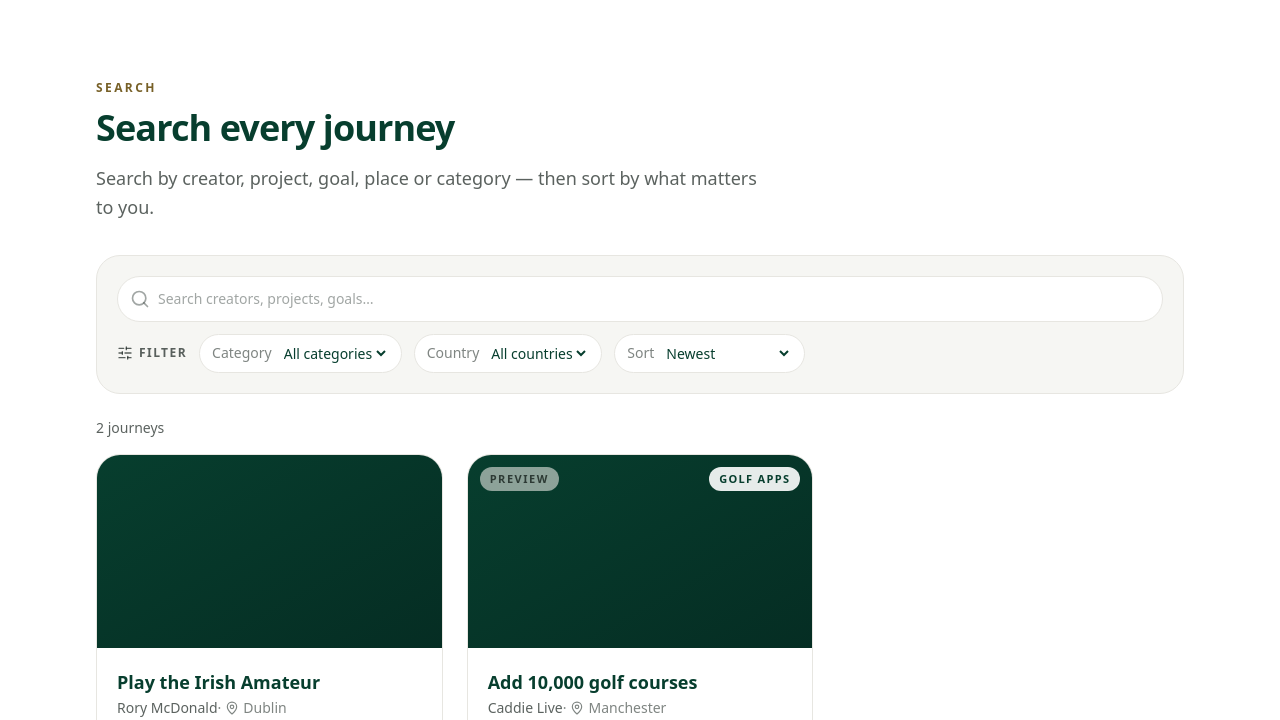
Scenario: DiscoverBrowser › shows the localized empty state and clears filters
The width and height of the screenshot is (1280, 720).
Type "zzz-no-match" into the search field named "Search creators, projects and goals" at (654, 298), box [158,276,1150,320]
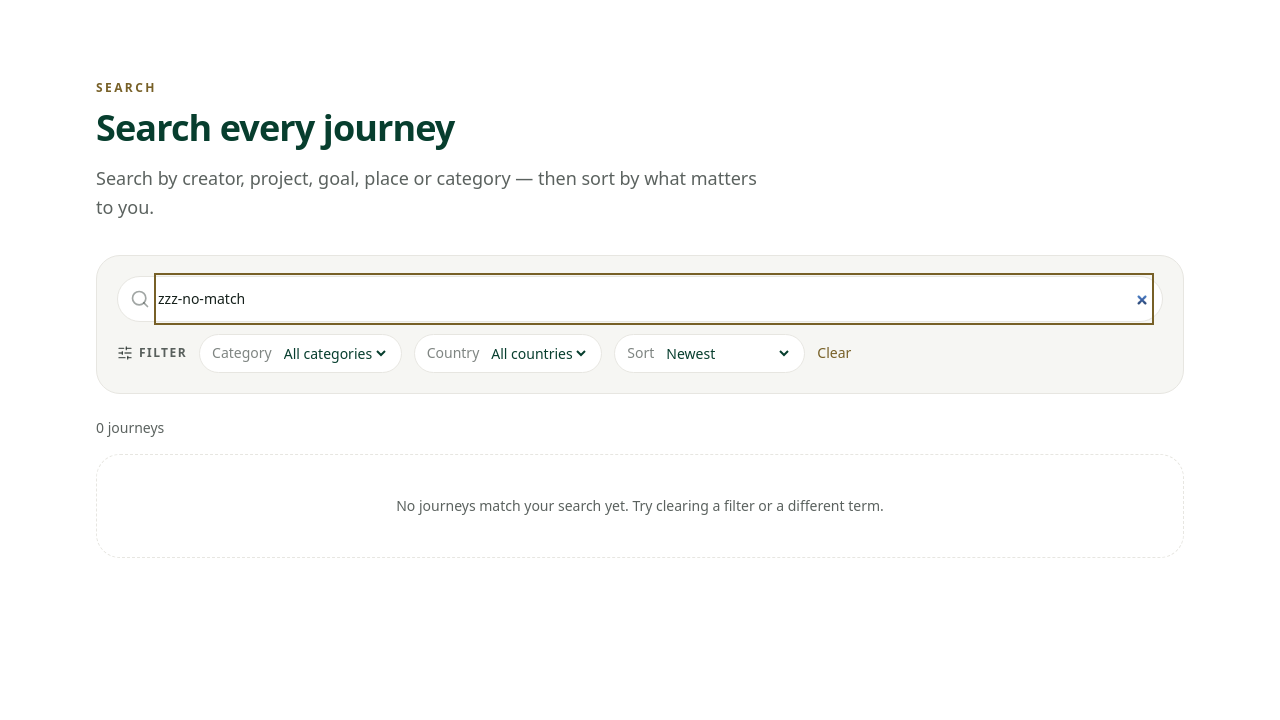
Expected: the text "No journeys match your search yet. Try clearing a filter or a different term." is shown, [396,496,884,514]
Click the button "Clear" at (834, 353), box [817,343,851,363]
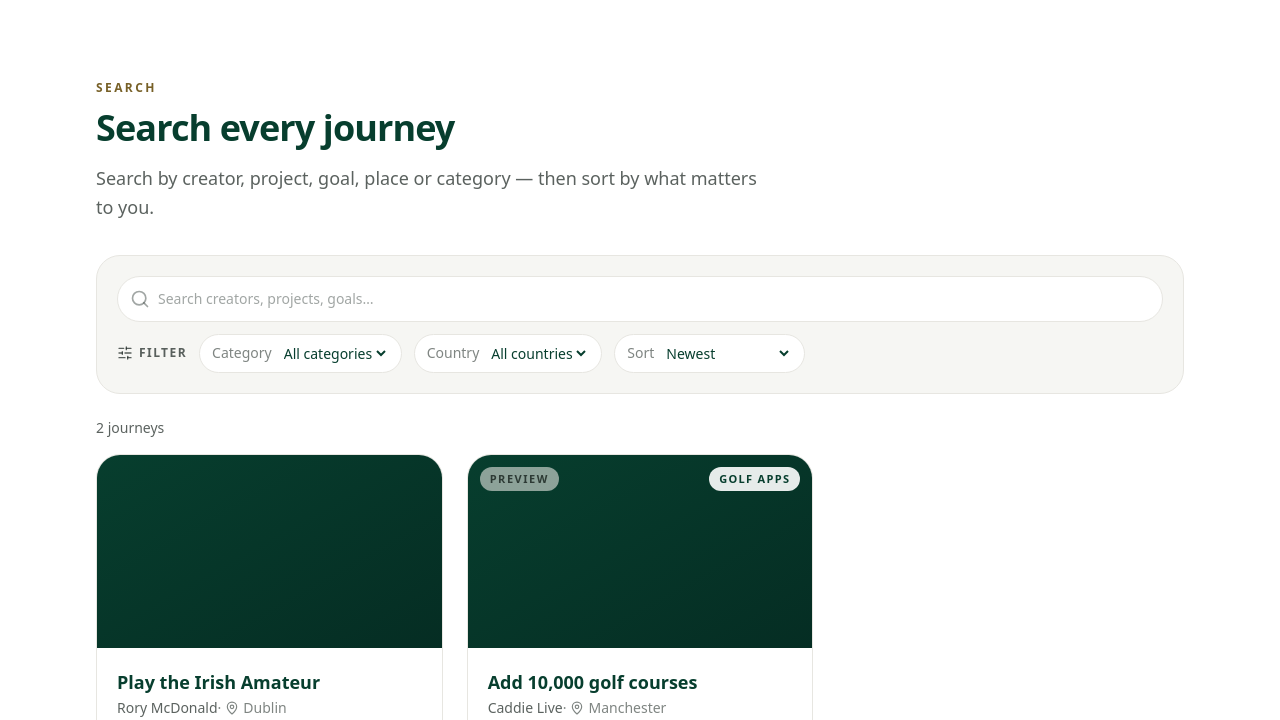
Expected: the text "2 journeys" is shown, [96,418,164,436]
